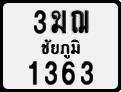letters: (70, 10, 90, 34), (51, 10, 68, 34), (33, 9, 47, 35), (61, 61, 76, 85), (45, 60, 58, 85), (81, 60, 94, 85), (29, 60, 38, 86)
province: (41, 38, 81, 60)
